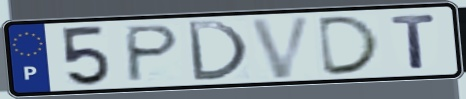5: (60, 24, 113, 88)
D: (316, 13, 384, 78), (184, 19, 252, 82)
P: (124, 23, 183, 84)
T: (389, 12, 440, 71)
V: (246, 13, 317, 81)
